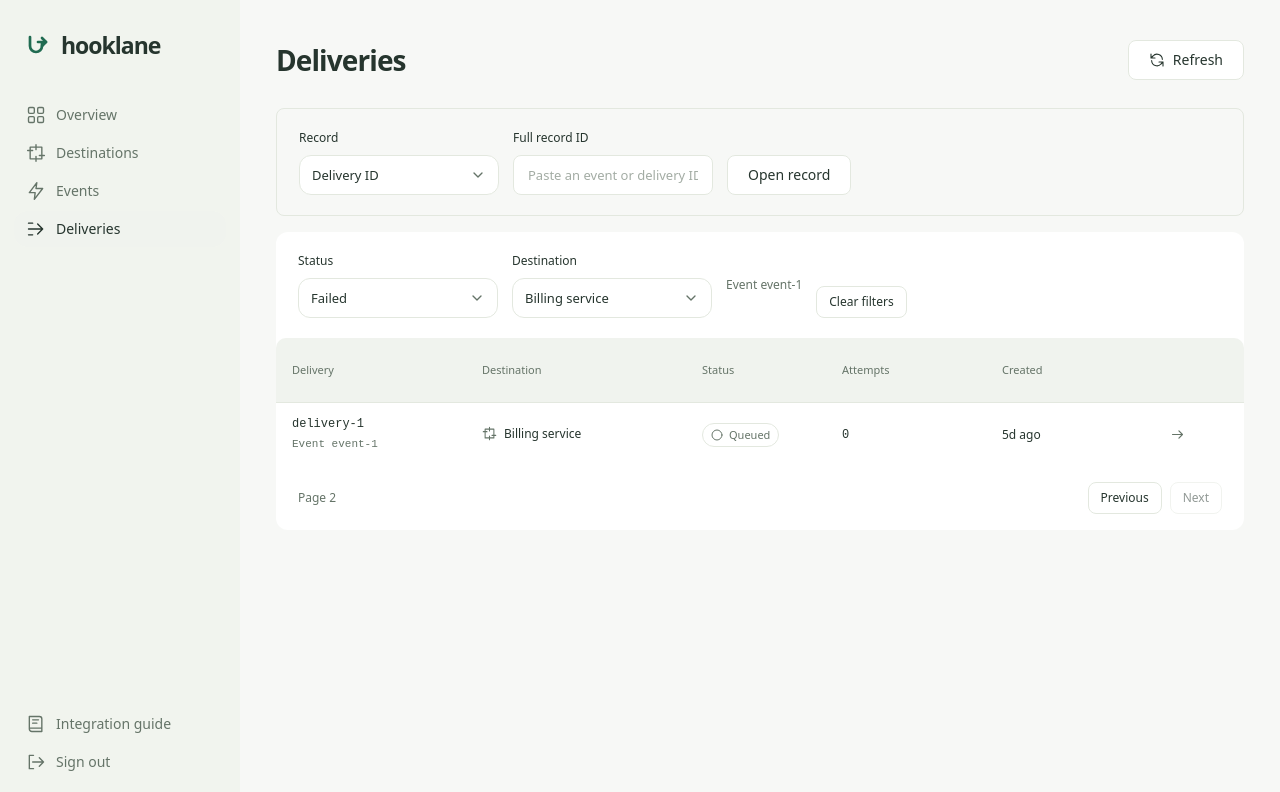
Test: audit regression flows › restores shared delivery filters and pagination through a detail return link
The width and height of the screenshot is (1280, 792).
expect the text "Page 2" is shown: met, box [298,489,336,507]
expect the dropdown named "Status" reads "Failed": met, box [298,278,498,318]
Click the link named "Inspect delivery delivery-1" at (1177, 435), box [1168,426,1186,443]
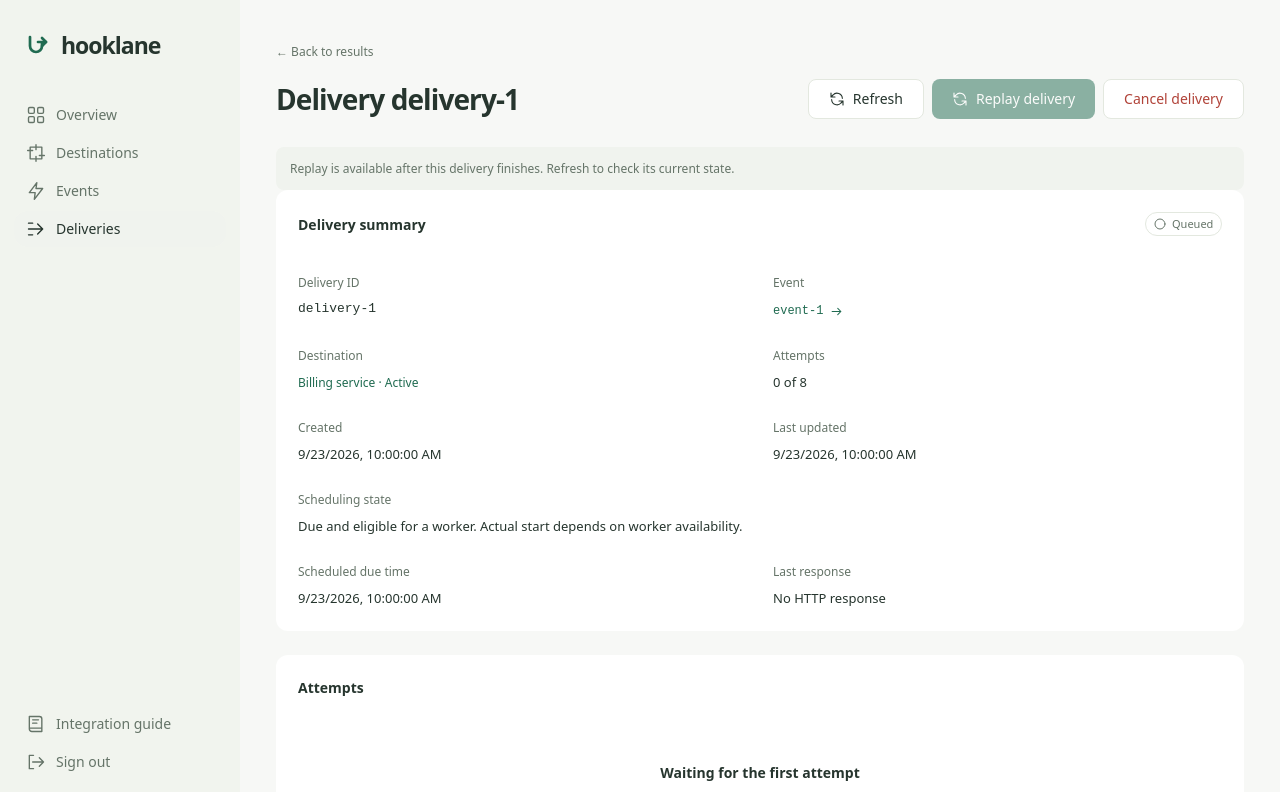
Click the link "← Back to results" at (325, 52), box [276,43,374,61]
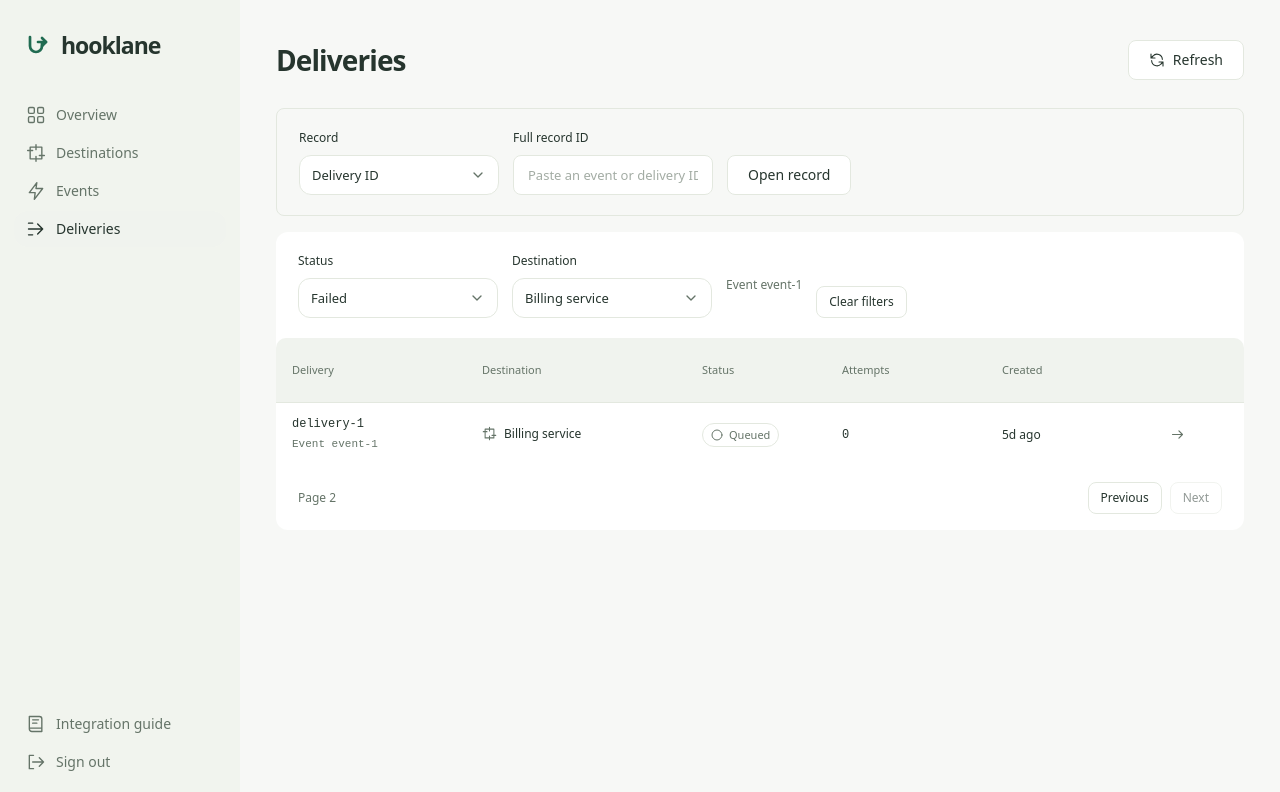
expect the text "Page 2" is shown: met, box [298,489,336,507]
expect the dropdown named "Status" reads "Failed": met, box [298,278,498,318]
